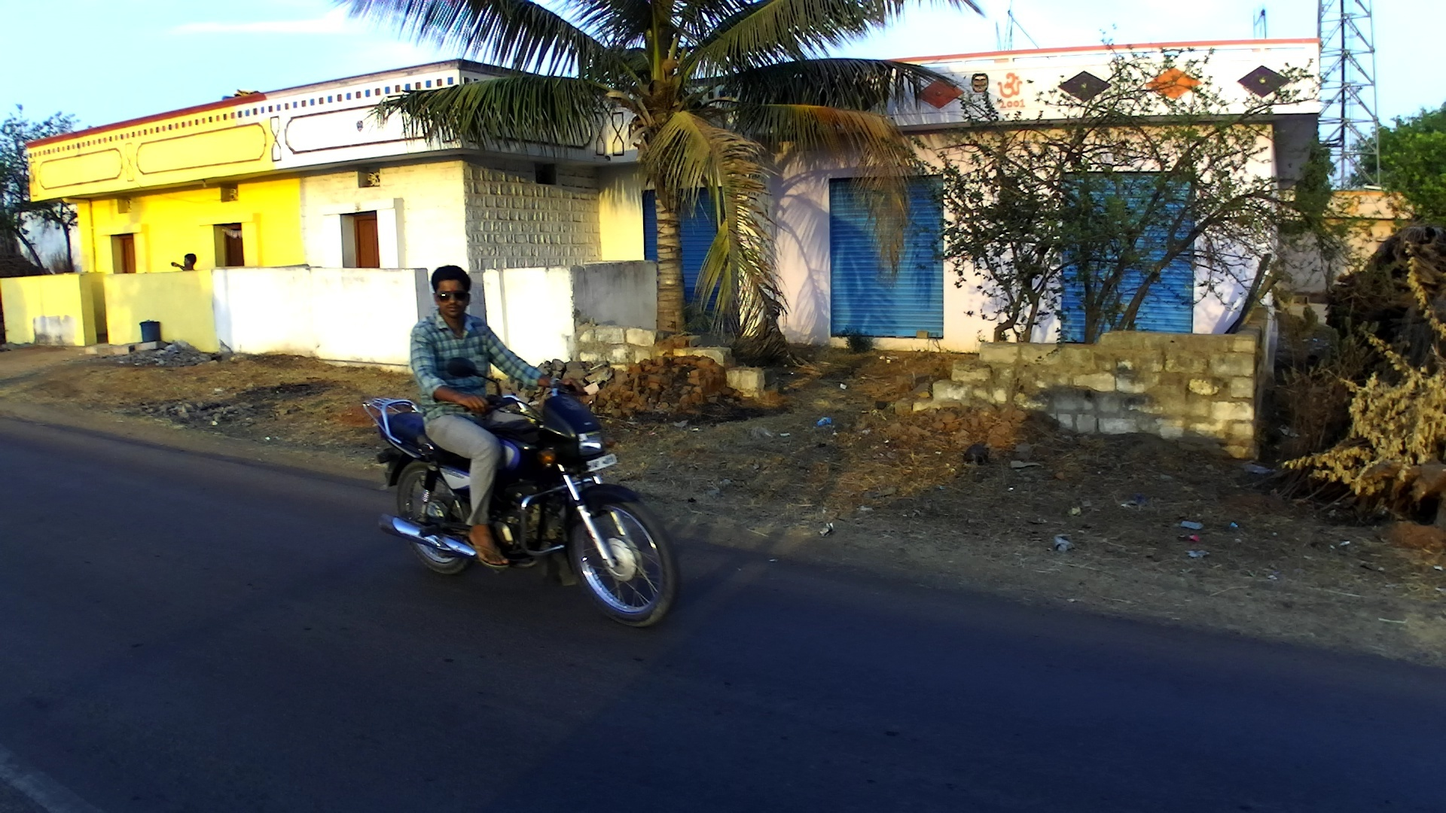motorcycle: (360, 364, 679, 627)
person: (170, 251, 198, 273)
rider: (407, 263, 590, 570)
